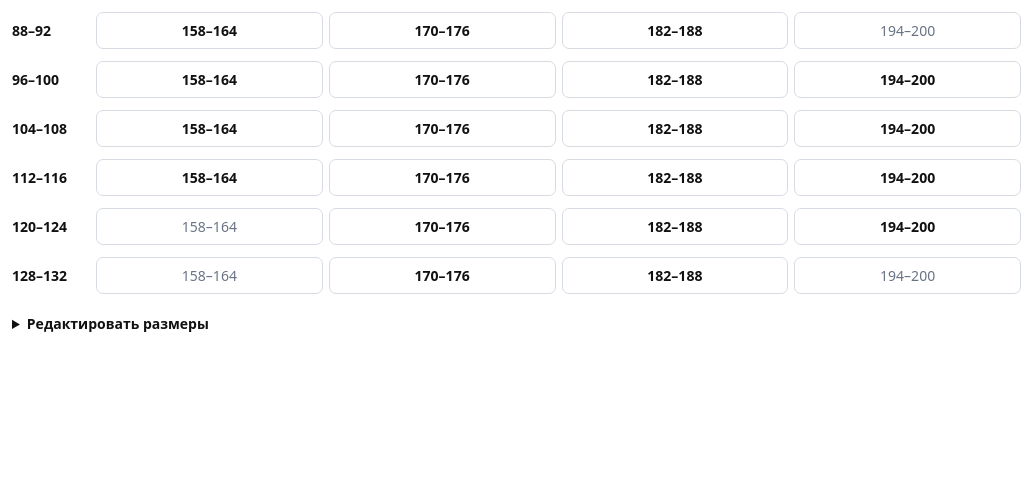
Test: replaces pasted and typed dashes immediately in both inputs
Click the heading "Редактировать размеры": (118, 324) [27,314,209,333]
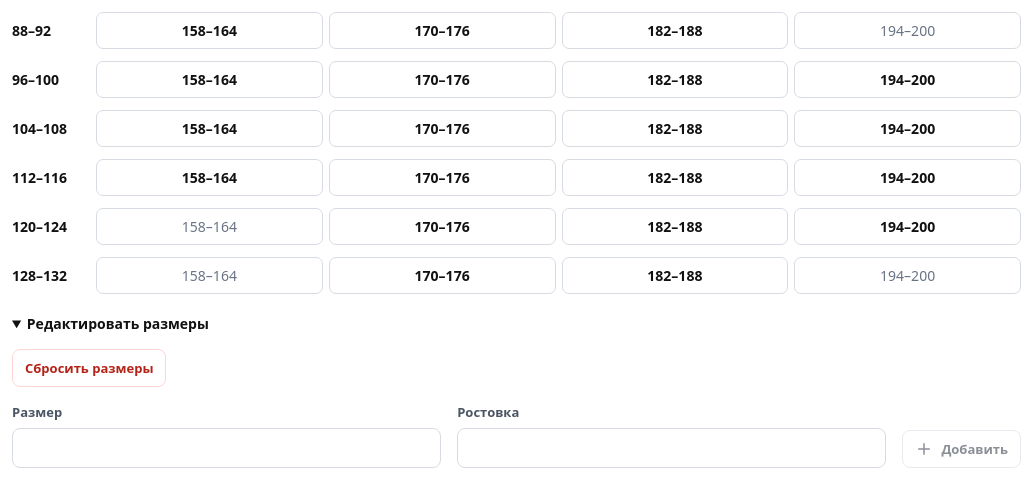
In the field labelled "Размер": (227, 448) [12,428,441,468], type "44 - 46"
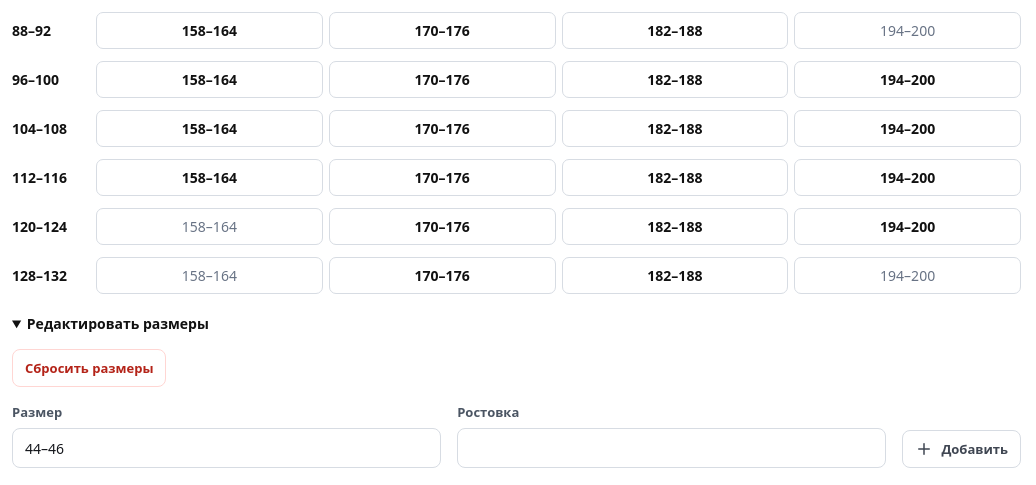
In the field labelled "Ростовка": (672, 448) [457,428,886,468], type "170—176"
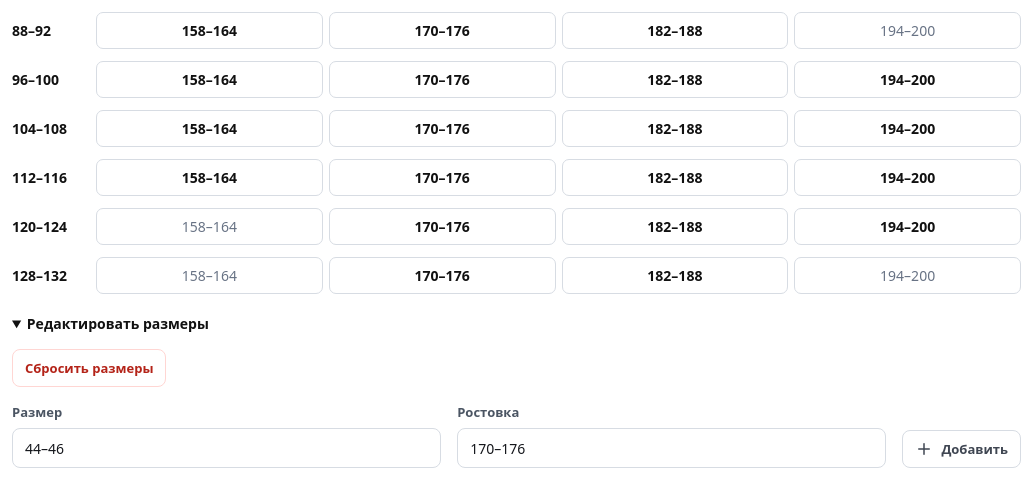
Check: the field labelled "Размер" holds "44–46", box [12,428,441,468]
Check: the field labelled "Ростовка" holds "170–176", box [457,428,886,468]
